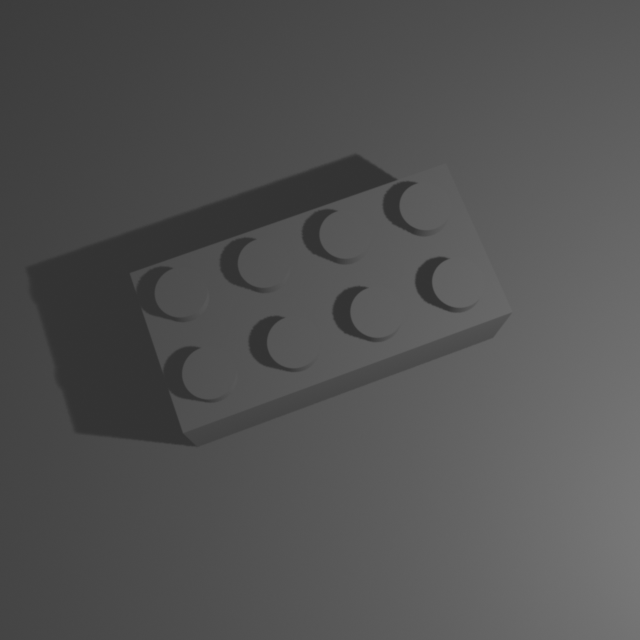lego_2x4: (126, 156, 516, 447)
